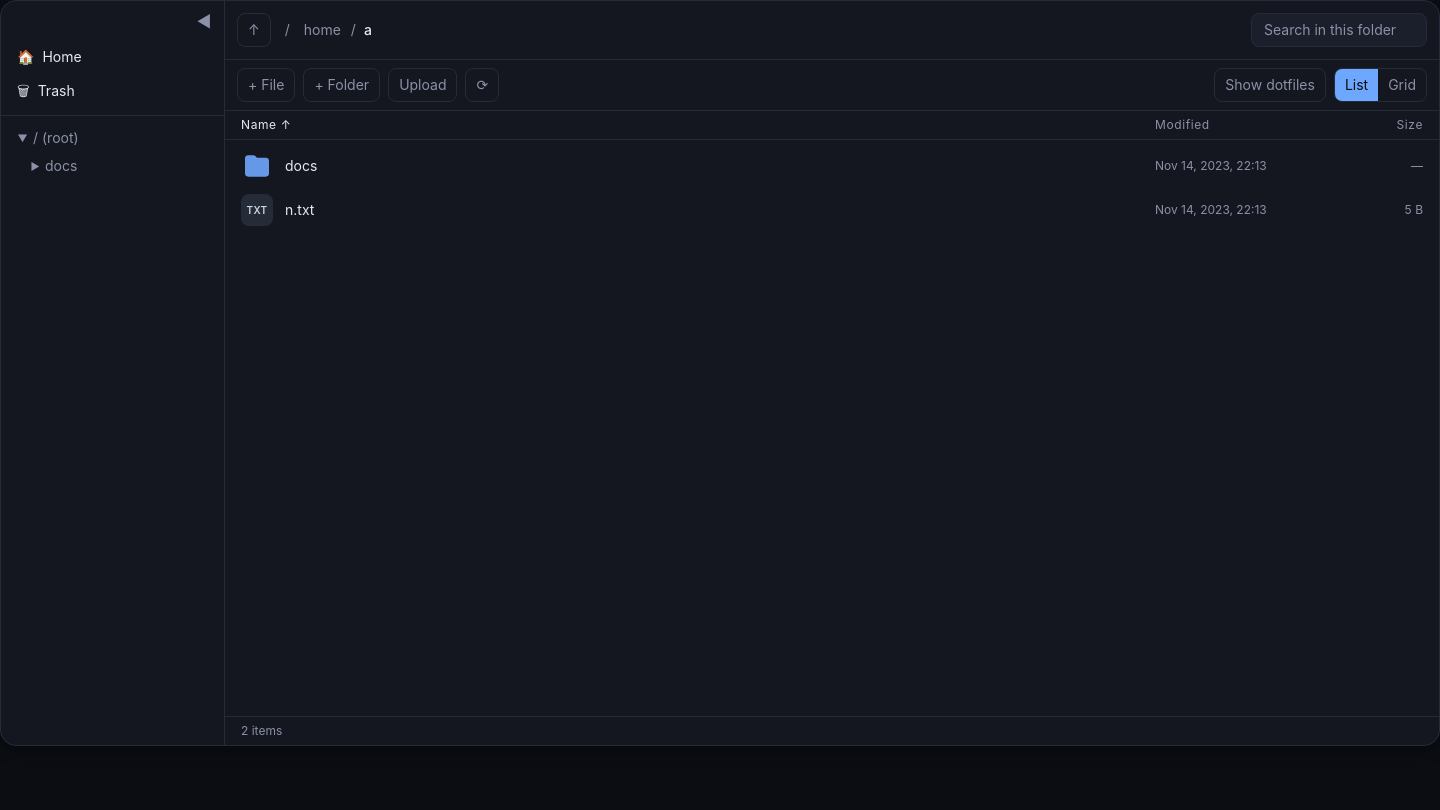
Scenario: Files page › lists the home folder, hides dotfiles by default, and can reveal them
Expected: the option "TXT n.txt Nov 14, 2023, 22:13 5 B" is shown, [229,188,1435,232]
Expected: the option "docs Nov 14, 2023, 22:13 —" is shown, [229,144,1435,188]
Step 1. Click the button "Show dotfiles" → click(1270, 85), box [1214,68,1326,102]
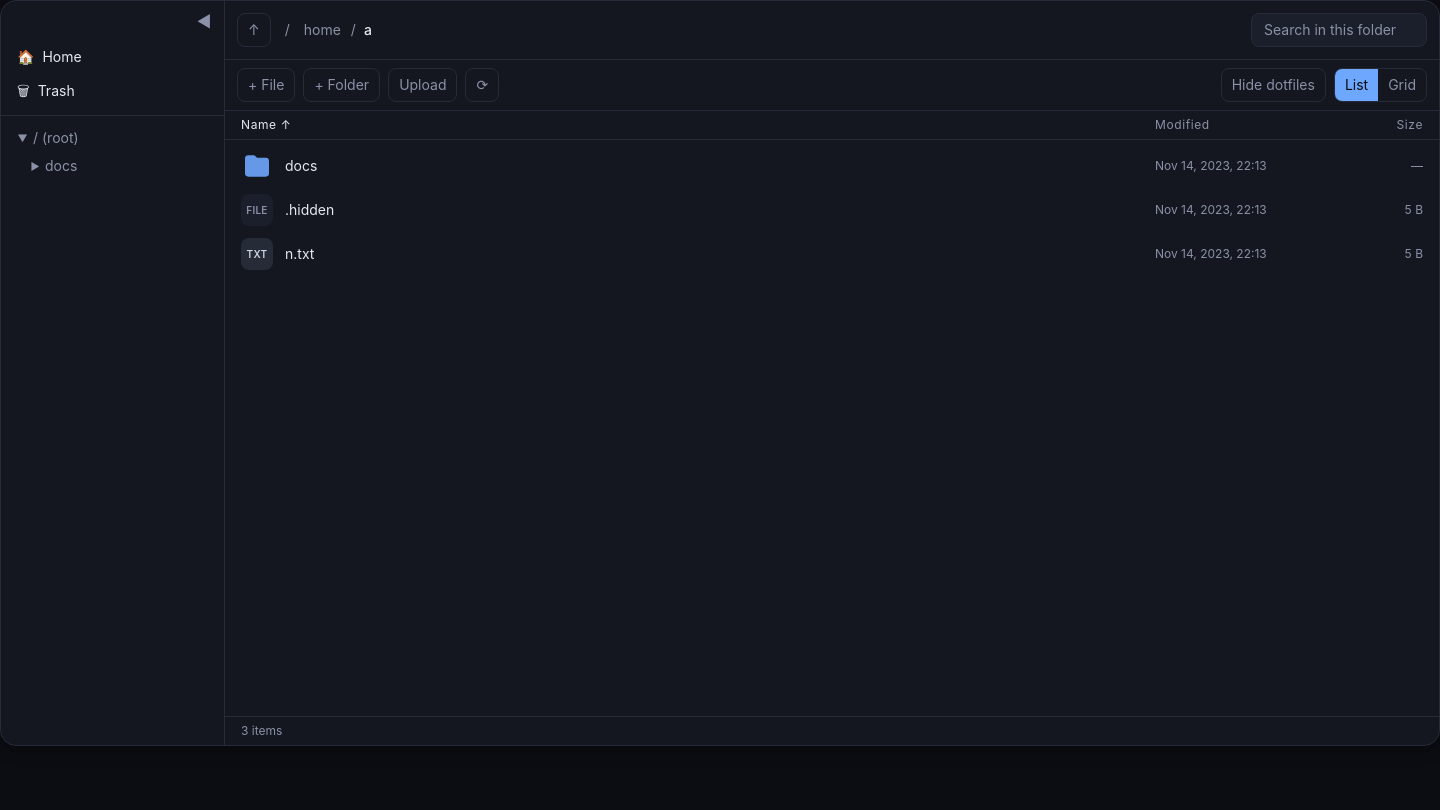
Expected: the option "FILE .hidden Nov 14, 2023, 22:13 5 B" is shown, [229,188,1435,232]
Expected: the text "3 items" is shown, [241,723,282,739]
